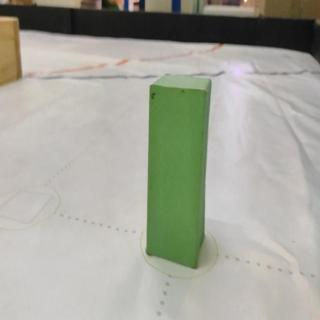greenbox: (145, 71, 212, 271)
